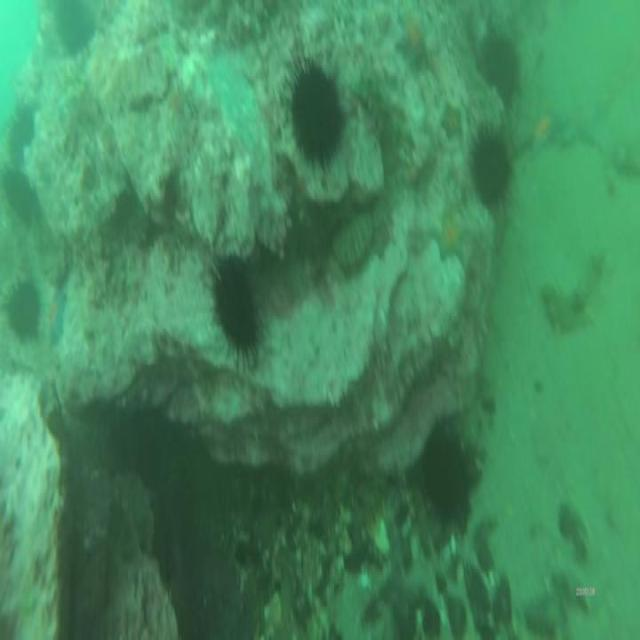echinus: (292, 73, 342, 164), (215, 270, 257, 349), (426, 441, 469, 518), (474, 133, 508, 199), (486, 36, 518, 94), (56, 0, 92, 51), (7, 288, 39, 340), (3, 167, 32, 223), (6, 106, 36, 148)
holothurian: (542, 256, 612, 335), (357, 66, 403, 176)
starfish: (393, 9, 428, 65), (436, 217, 466, 266), (530, 104, 554, 152), (46, 294, 67, 341), (442, 98, 464, 139)
